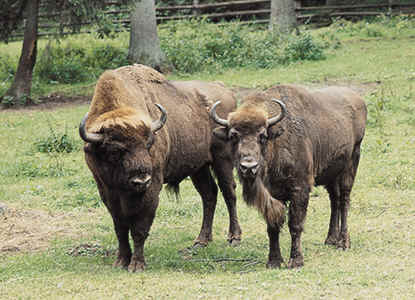zubr: (203, 54, 415, 288), (59, 42, 260, 284)
